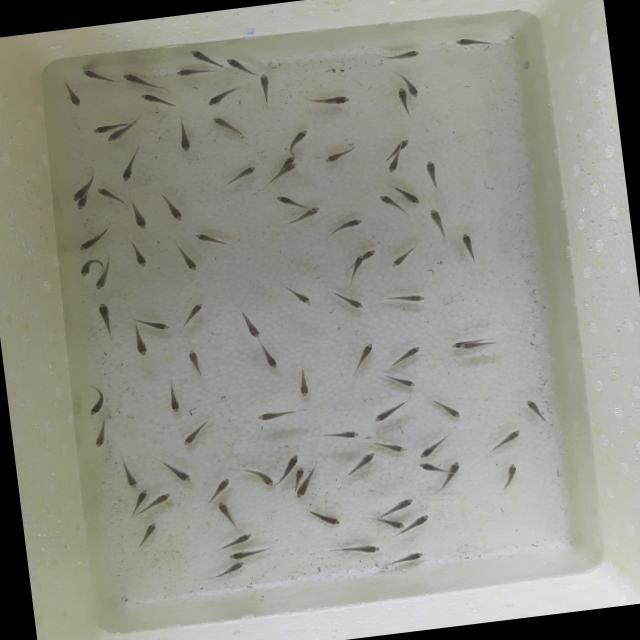fingerling: (71, 220, 117, 256), (250, 402, 308, 427), (328, 535, 381, 561), (318, 215, 368, 242), (120, 66, 168, 94), (91, 298, 121, 342), (115, 143, 146, 184), (348, 340, 380, 378), (233, 304, 265, 342), (414, 432, 454, 462), (290, 364, 320, 404), (159, 454, 194, 488), (179, 416, 215, 449), (427, 394, 465, 425), (340, 450, 379, 479), (486, 425, 526, 453), (302, 504, 345, 530), (200, 84, 243, 110), (493, 458, 524, 494), (80, 62, 121, 89), (374, 44, 424, 66), (170, 114, 196, 156), (321, 142, 364, 167), (452, 31, 498, 54), (423, 206, 454, 240), (281, 280, 316, 310), (136, 89, 178, 114), (115, 456, 144, 492), (330, 286, 367, 314), (380, 287, 427, 309), (160, 190, 187, 228), (176, 300, 210, 330), (126, 196, 152, 234), (252, 70, 278, 108), (315, 425, 364, 445), (240, 463, 275, 491), (371, 398, 410, 423), (384, 344, 424, 368), (172, 244, 202, 276), (306, 90, 354, 110), (457, 228, 483, 264), (206, 559, 248, 581), (192, 227, 232, 250), (520, 395, 548, 427), (388, 243, 420, 271), (208, 113, 240, 141), (214, 530, 256, 551), (380, 370, 420, 392), (225, 545, 273, 563), (389, 546, 428, 568), (84, 384, 109, 418), (132, 522, 160, 552), (162, 378, 184, 416), (58, 78, 84, 110), (127, 237, 150, 273), (170, 65, 216, 83), (90, 418, 114, 452), (128, 327, 152, 361), (225, 54, 256, 80), (257, 340, 282, 372), (420, 157, 444, 190), (185, 346, 208, 380), (224, 163, 258, 186), (286, 206, 324, 226), (95, 182, 126, 206), (381, 496, 416, 516), (213, 498, 238, 526), (458, 336, 504, 351), (268, 190, 304, 209), (140, 314, 172, 335), (186, 46, 217, 67), (74, 255, 100, 279), (285, 128, 311, 152), (398, 185, 426, 207), (416, 458, 446, 478), (379, 438, 409, 457), (396, 86, 412, 121), (210, 476, 236, 497), (404, 74, 424, 100), (147, 492, 172, 510), (89, 273, 110, 294), (409, 511, 433, 529), (380, 516, 406, 532), (382, 157, 402, 177), (131, 486, 150, 506), (373, 192, 396, 208), (282, 452, 300, 470), (88, 122, 110, 136), (447, 458, 462, 478), (104, 130, 124, 145), (70, 188, 88, 202), (292, 467, 306, 482), (74, 199, 90, 212), (295, 485, 309, 499), (353, 254, 365, 270), (283, 162, 299, 173), (363, 249, 377, 261), (398, 138, 411, 150), (283, 154, 295, 164)
